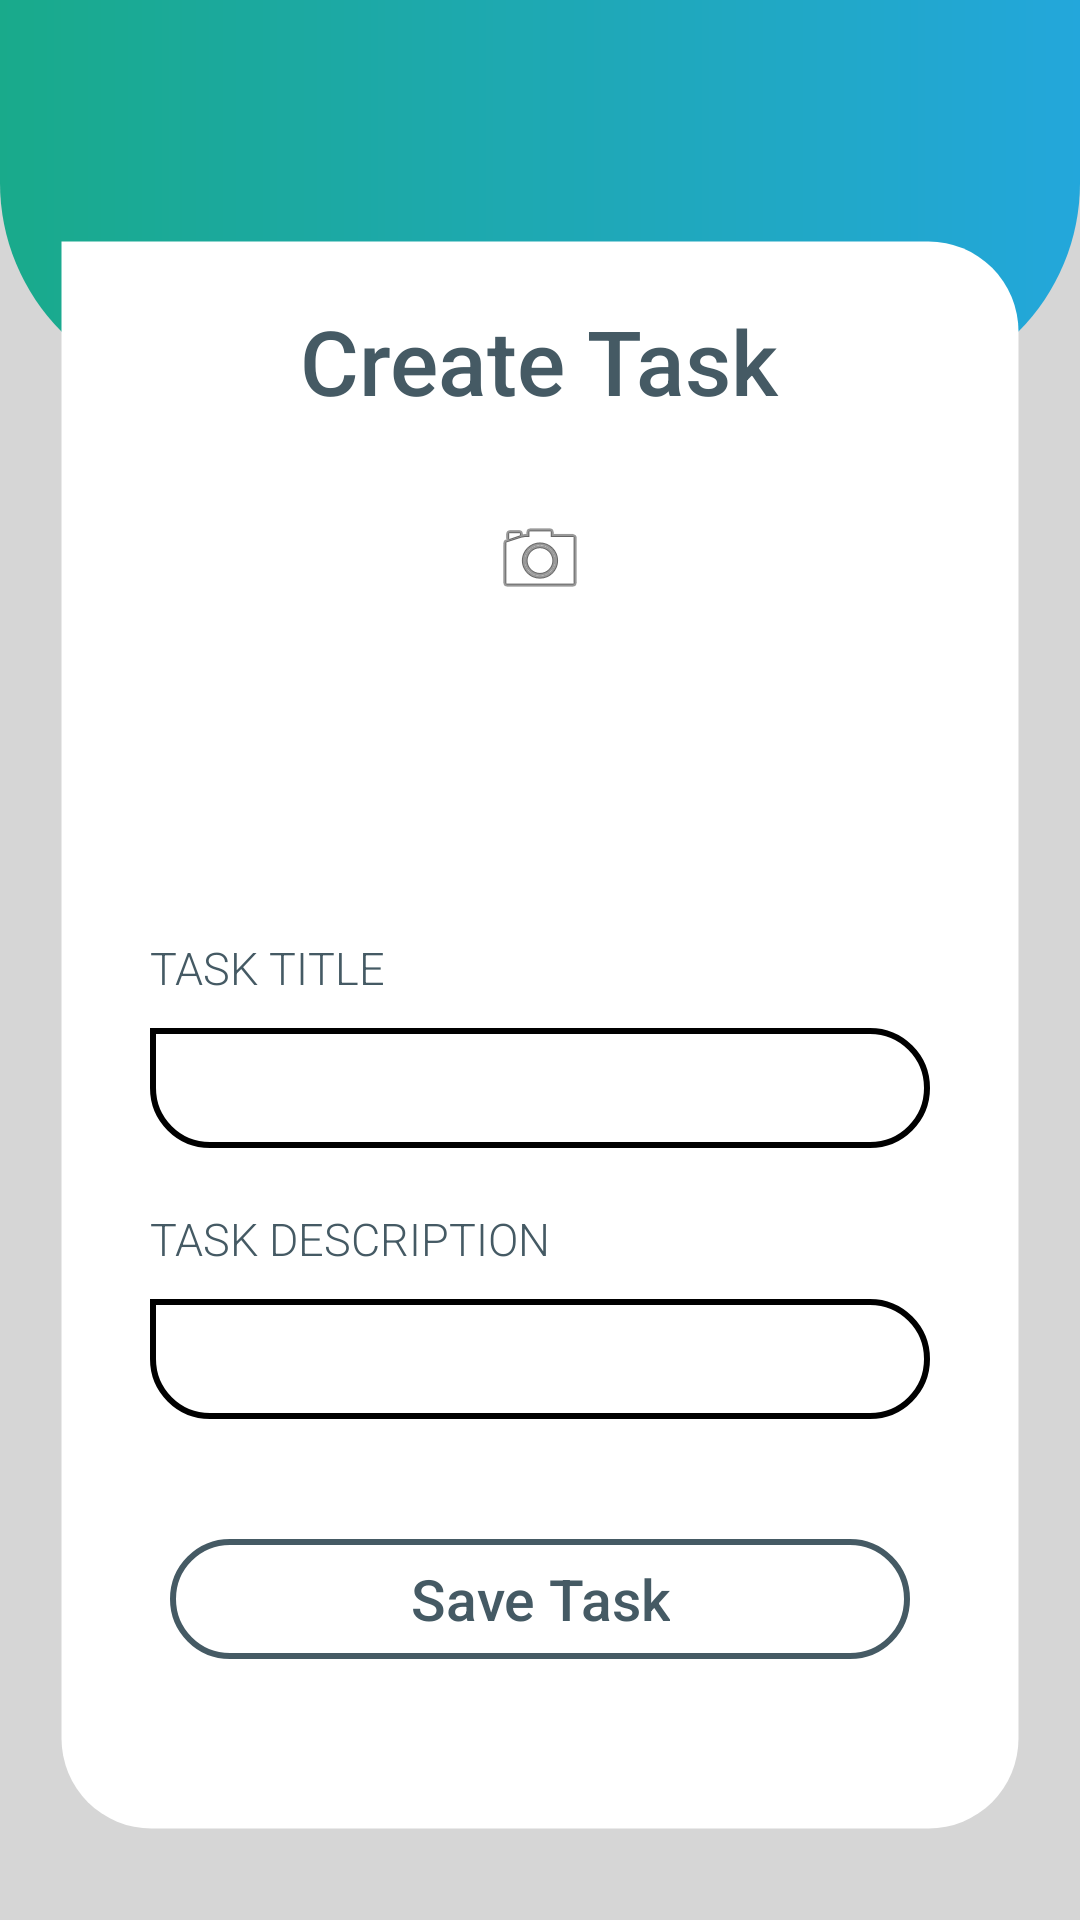

Screen size 1080×1920. Icon name, then its center in pixels as (x=x, y=y):
camera: (x=540, y=557)
